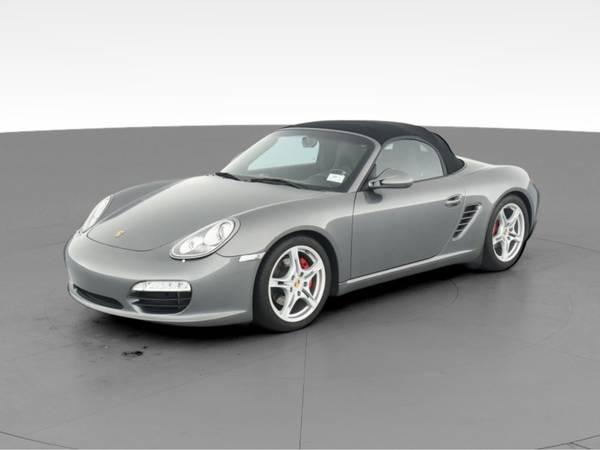Front_Bumper: (64, 231, 261, 326)
Front_Fender: (218, 190, 355, 291)
Front_Left_Door: (350, 173, 462, 286)
Front_Left_Window: (361, 139, 448, 191)
Front_Windshield: (222, 129, 377, 194)
Hood: (84, 177, 324, 255)
Left_Headlight: (173, 215, 239, 257)
Rear_Fender: (442, 155, 536, 266)
Right_Headlight: (81, 198, 106, 233)
Roof: (277, 121, 463, 192)
Wheel: (256, 238, 333, 333), (485, 195, 528, 270)
